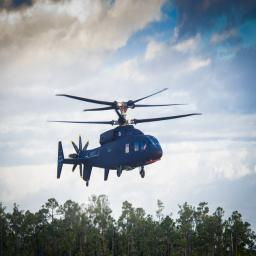helicopter: (52, 88, 204, 189)
